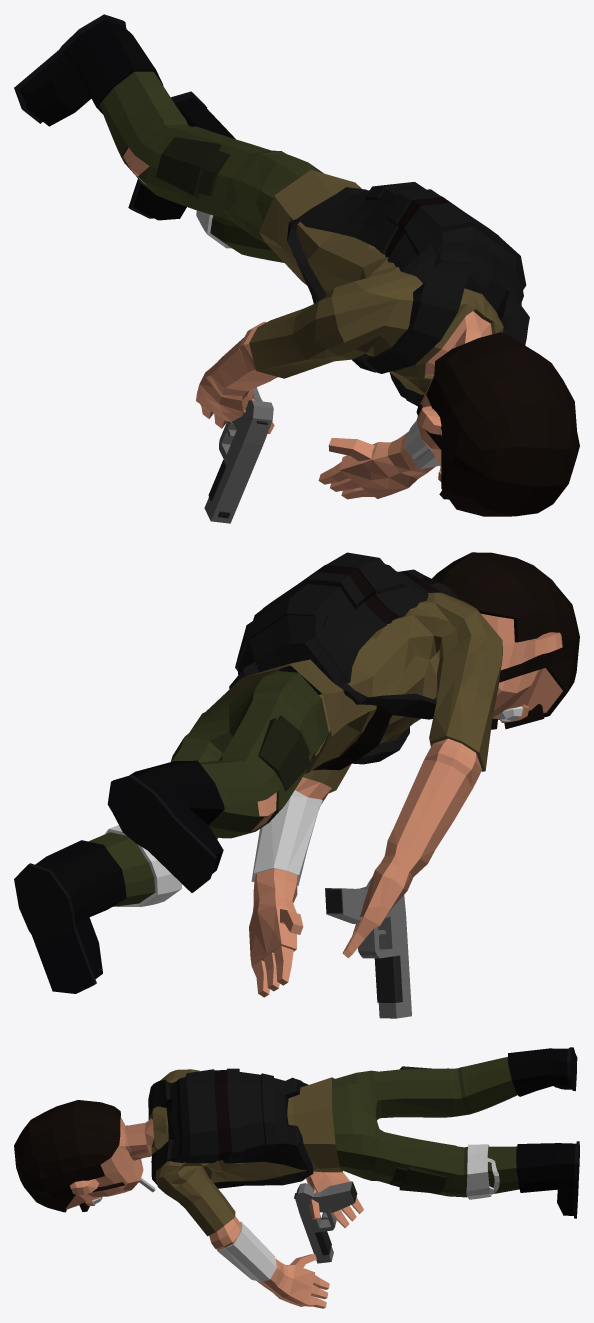
File: frame_0005.obj
3 views of the same model, one above another, from view 1: azimuth 30°, elevation 25°; view 2: azimuth 150°, elevation 25°; view 3: azimuth 270°, elevation 25° (orthographic). The views are drawn at different scales.
Visible parts, largest first — view 1: Body, Gun; view 2: Body, Gun; view 3: Body, Gun.
Part boxes in pixels (left/top/right/bottom): Body: left=14, top=14, right=579, bottom=516; Gun: left=204, top=387, right=273, bottom=523; Body: left=14, top=552, right=579, bottom=997; Gun: left=325, top=877, right=411, bottom=1018; Body: left=14, top=1047, right=579, bottom=1308; Gun: left=294, top=1181, right=357, bottom=1263.
Size of the model in its own units: 1.33 by 1.96 by 4.15.
